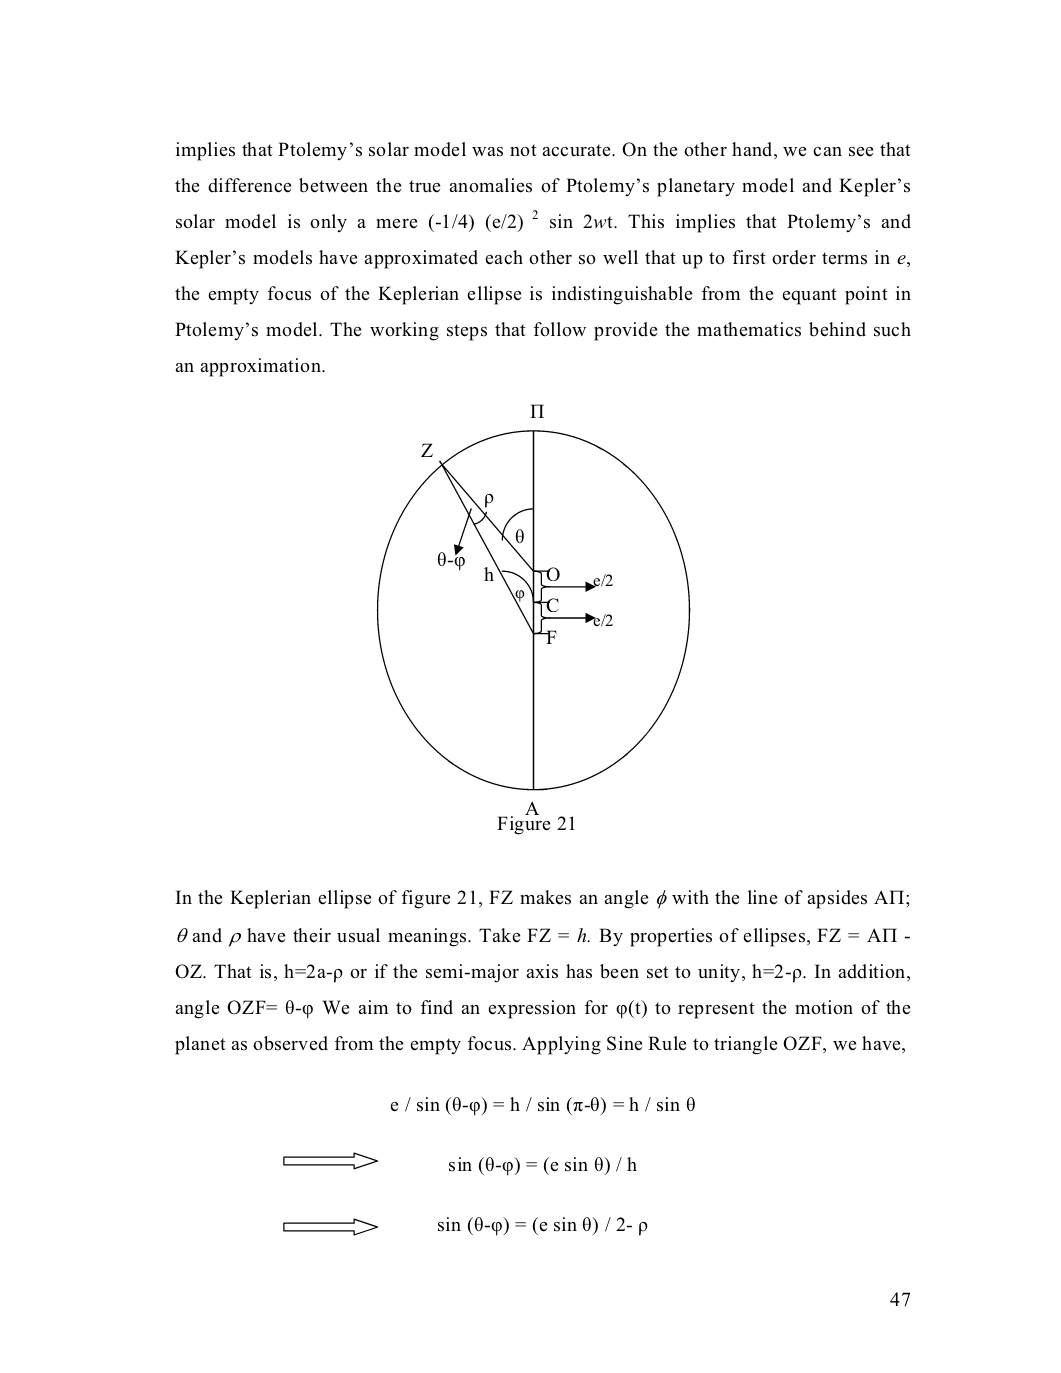figure: (376, 429, 690, 791), (283, 1152, 378, 1235)
formula: (390, 1096, 694, 1116), (438, 1217, 648, 1235), (449, 1157, 636, 1175)
